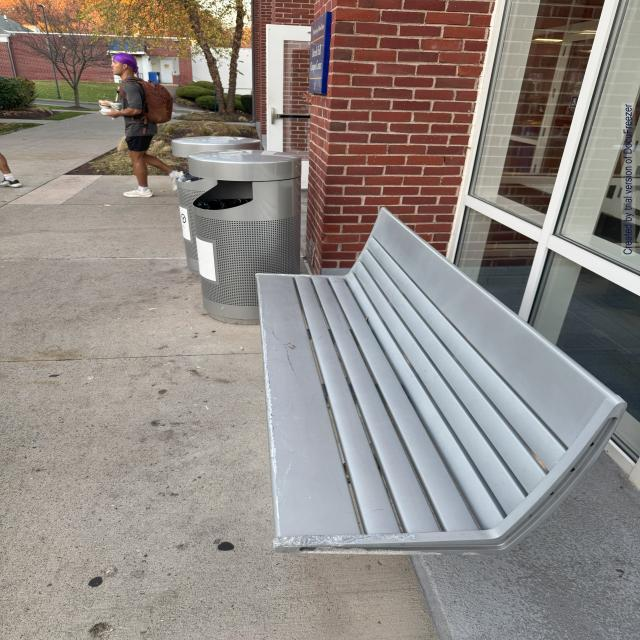Trash bin: (182, 140, 320, 342)
chair: (250, 207, 629, 571)
